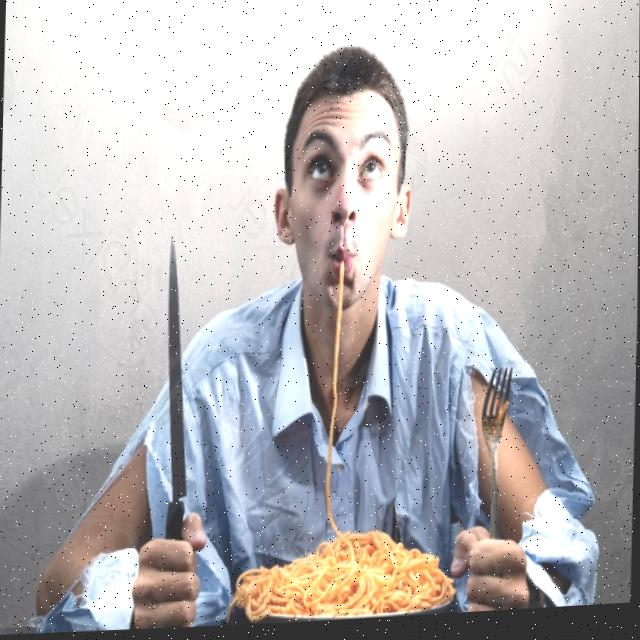eating-person: (24, 17, 619, 639)
